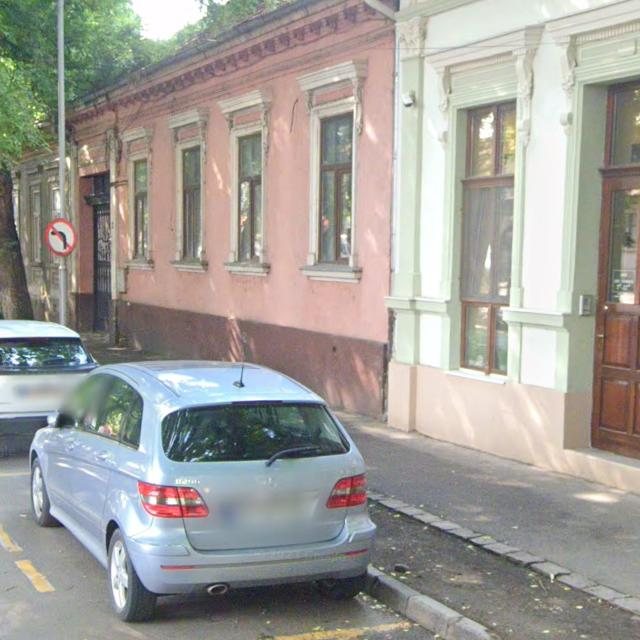forb_left: (43, 220, 76, 256)
